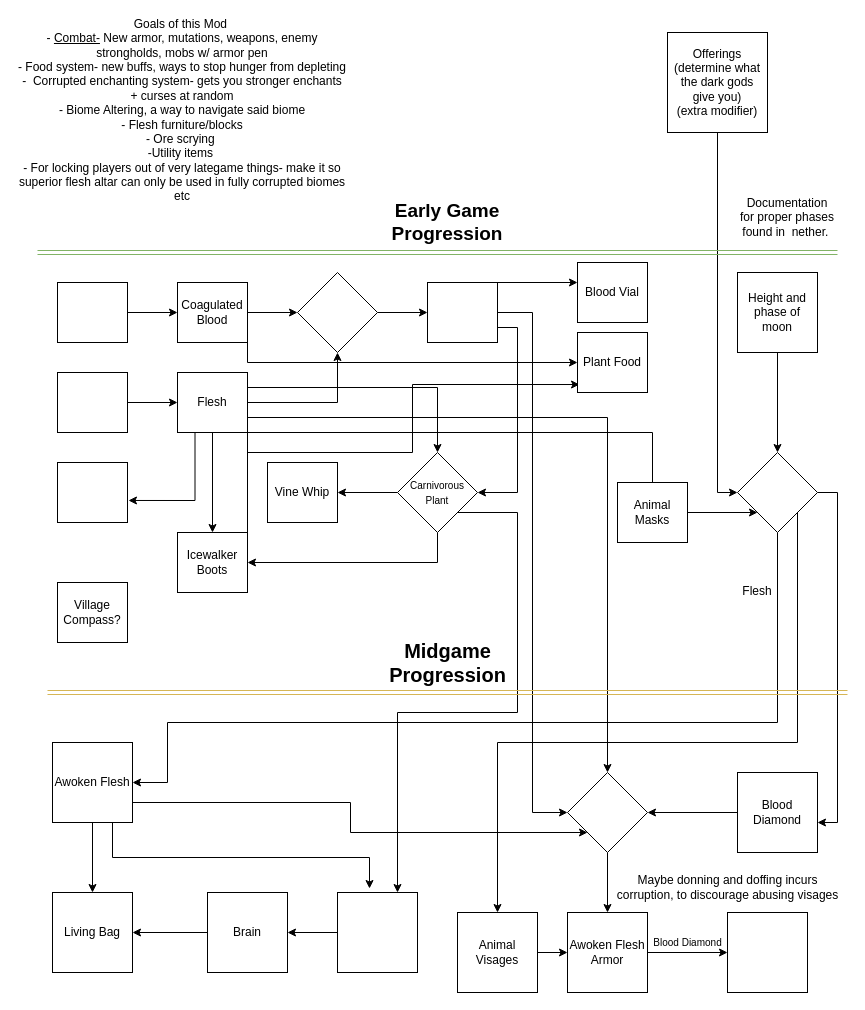
The diagram is 865 pixels wide and 1010 high, and some of its shapes have lost their labels. The shapes that lost their labels are listed below. From the top down, each one's centre as x and y in pixels, then its label:
At pixel 92 312: "Poison Splinter".
At pixel 337 312: "Cow Engine".
At pixel 462 312: "Wet Blood".
At pixel 92 402: "Flaying Blade".
At pixel 92 492: "Flesh Armor".
At pixel 777 492: "Flesh Altar".
At pixel 607 812: "Flesh Sculptor".
At pixel 377 932: "Brain Extractor".
At pixel 767 952: "Visage Armor".
